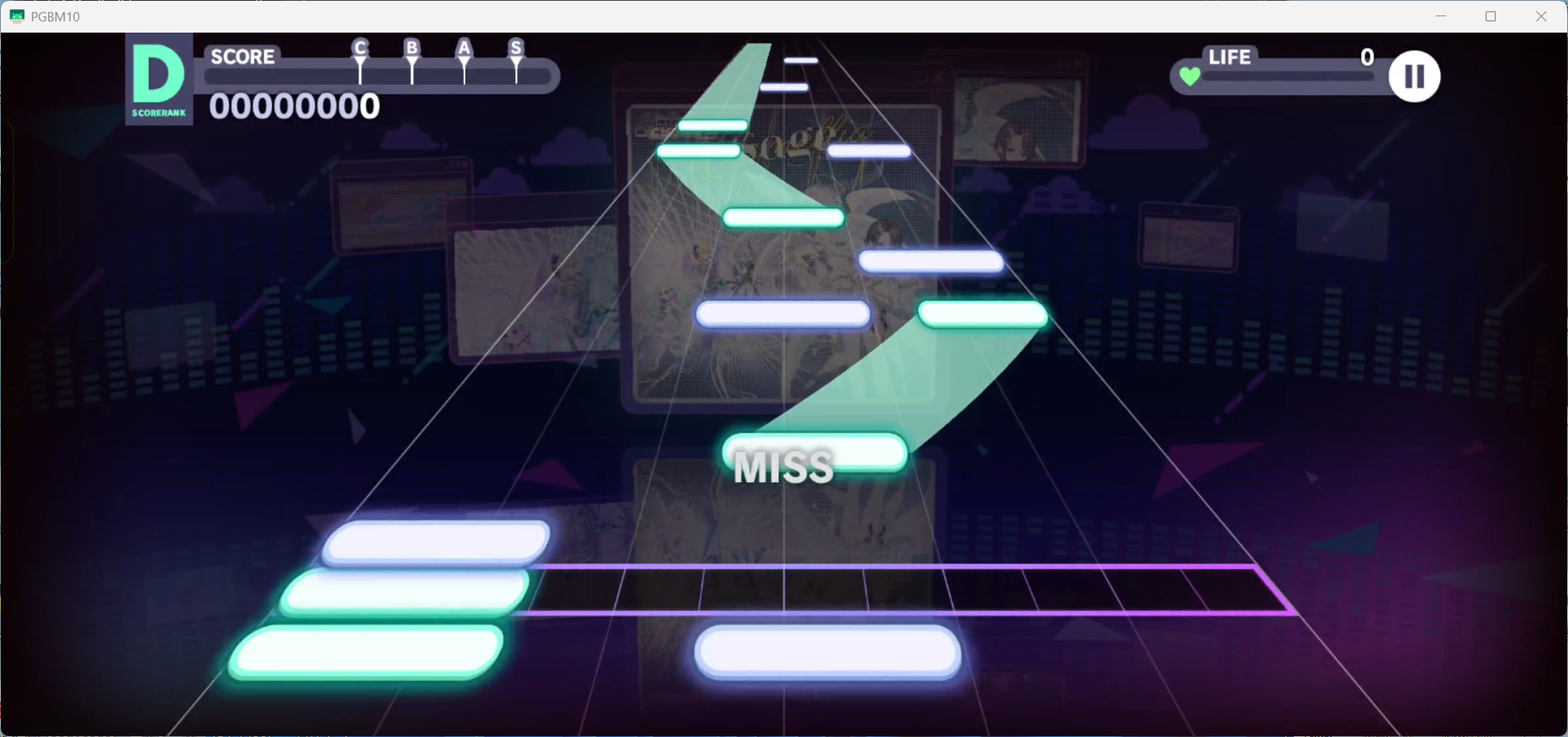hold: (753, 328, 1039, 432), (660, 158, 825, 208), (682, 44, 772, 119)
tap: (228, 625, 502, 680), (695, 624, 963, 679), (278, 567, 530, 619), (320, 521, 553, 565), (721, 432, 909, 473), (696, 300, 869, 329), (918, 301, 1048, 330), (859, 250, 1005, 273), (722, 208, 844, 227), (828, 143, 912, 158), (657, 143, 739, 157), (678, 120, 747, 131), (760, 82, 808, 91), (784, 57, 818, 64)
